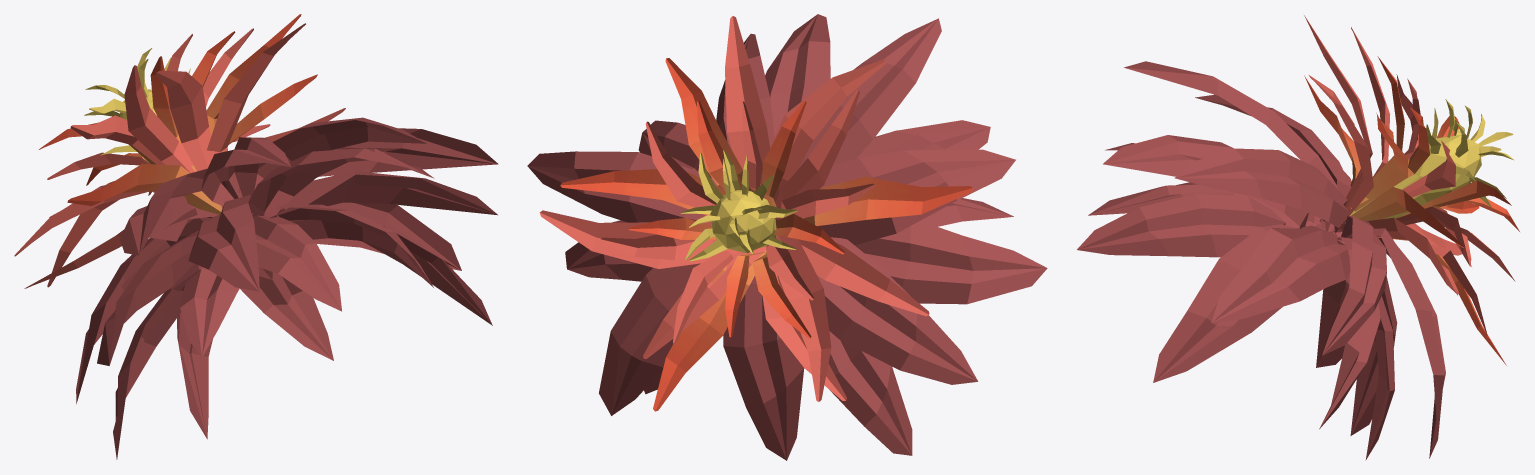
File: herbFiresilk.fbx
The picture shows the model from 3 angles, left to right: view 1: azimuth 30°, elevation 25°; view 2: azimuth 150°, elevation 25°; view 3: azimuth 270°, elevation 25°; orthographic projection. The views are drawn at different scales.
Parts seen in each view (by area): view 1: herbFiresilk; view 2: herbFiresilk; view 3: herbFiresilk.
Boxes of the visible parts, x1,y1,x2,y2 form: herbFiresilk: (14,14,498,459); herbFiresilk: (527,14,1047,460); herbFiresilk: (1077,15,1519,460).
Size of the model in its own units: 1.71 by 1.48 by 1.5.
Materials: 1 (1 with a texture image).
